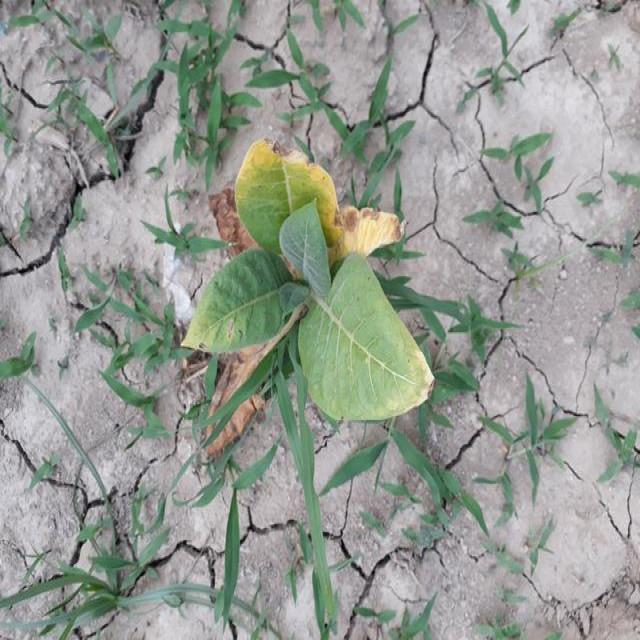crop: (190, 147, 432, 445)
